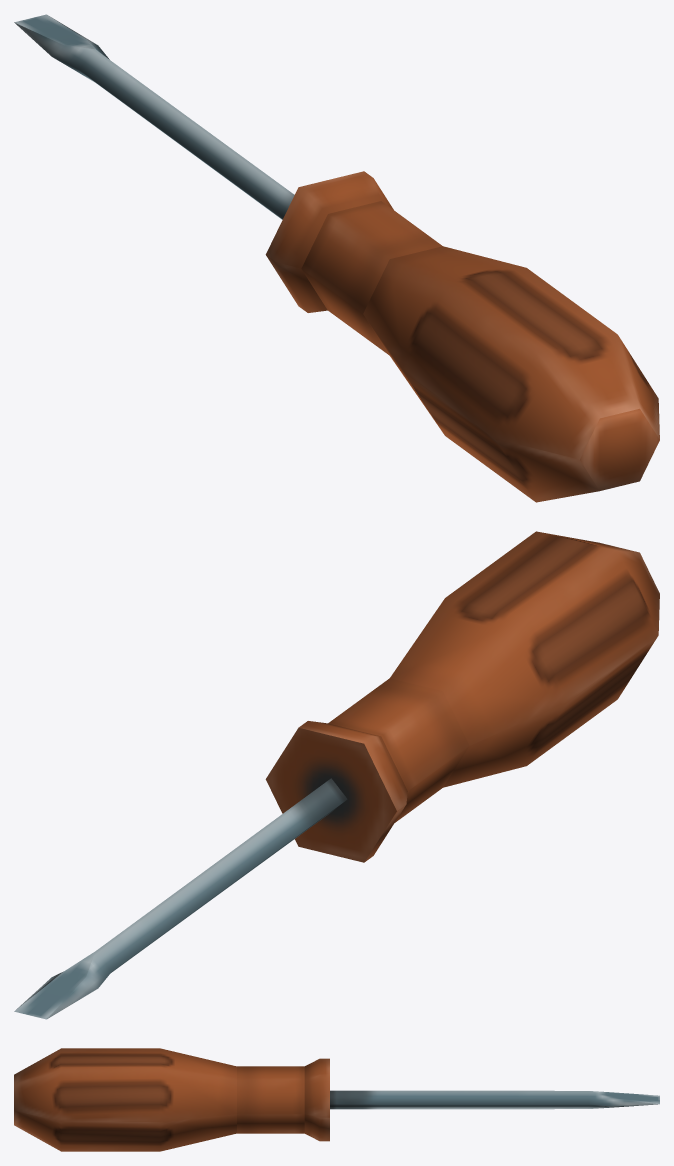
The model's file is ITEM_screwdriver.fbx.
The picture shows the model from 3 angles, top to bottom: view 1: azimuth 30°, elevation 25°; view 2: azimuth 150°, elevation 25°; view 3: azimuth 270°, elevation 25°; orthographic projection. The views are drawn at different scales.
Parts seen in each view (by area): view 1: ITEM_screwdriver; view 2: ITEM_screwdriver; view 3: ITEM_screwdriver.
Part boxes in pixels (bbox=[...]): ITEM_screwdriver: bbox=[14, 14, 659, 502]; ITEM_screwdriver: bbox=[14, 531, 659, 1019]; ITEM_screwdriver: bbox=[14, 1048, 659, 1151].
Size of the model in its own units: 3.36 by 2.91 by 21.
